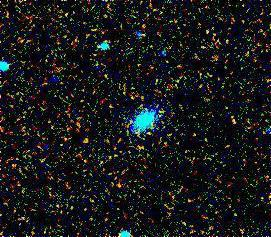star: (72, 125, 102, 155)
